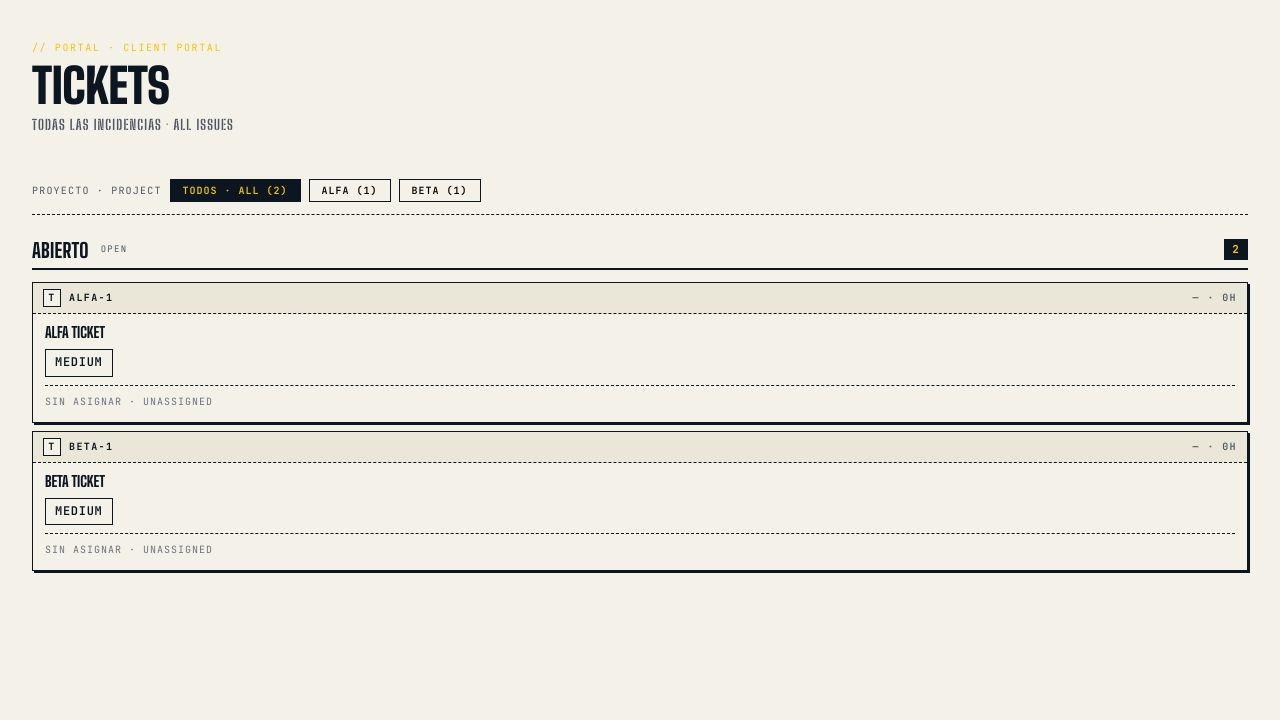
PortalTicketsPage (coverage) › toggles the project filter off when the active pill is clicked again
The width and height of the screenshot is (1280, 720).
Check: the text "Alfa ticket" is shown, box [45,323,105,341]
# First click activates the BETA filter (toggle-ON arm: `: key`).
Click the button "BETA (1)" at (440, 191), box [399,179,481,202]
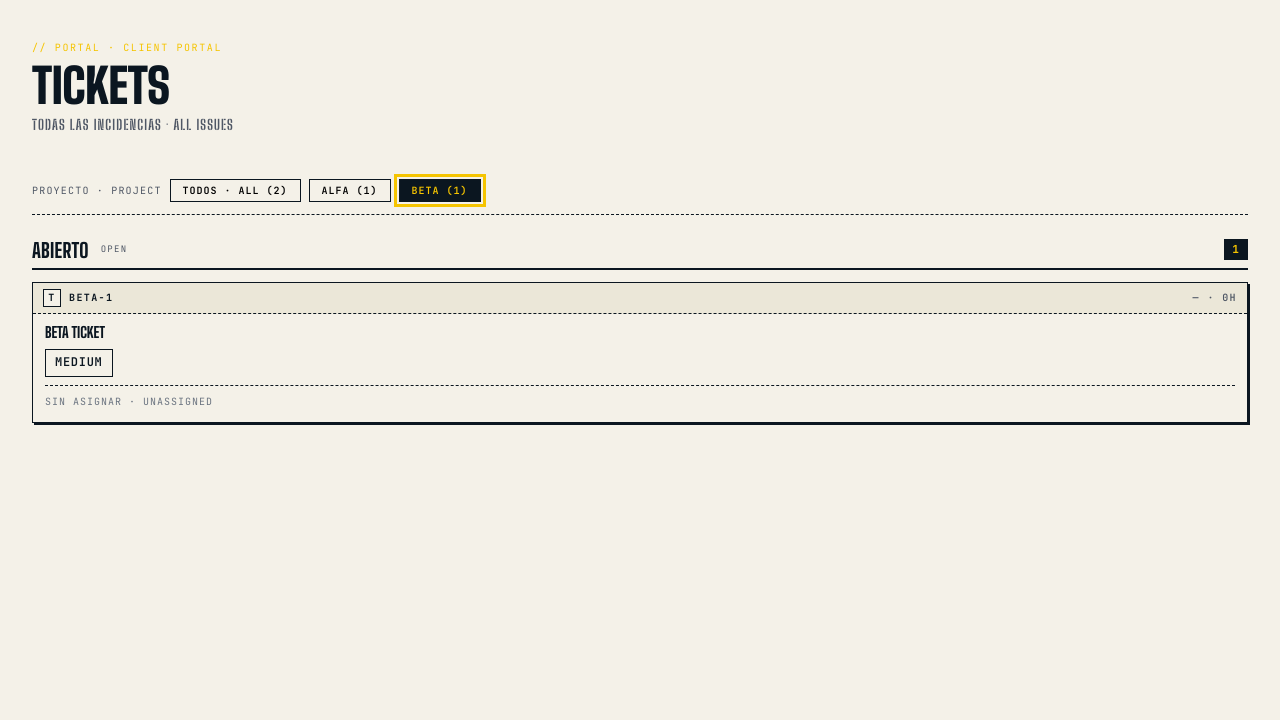
Check: the text "Beta ticket" is shown, box [45,323,105,341]
Check: the text "Alfa ticket" is gone
Click the button "BETA (1)" at (440, 191), box [399,179,481,202]
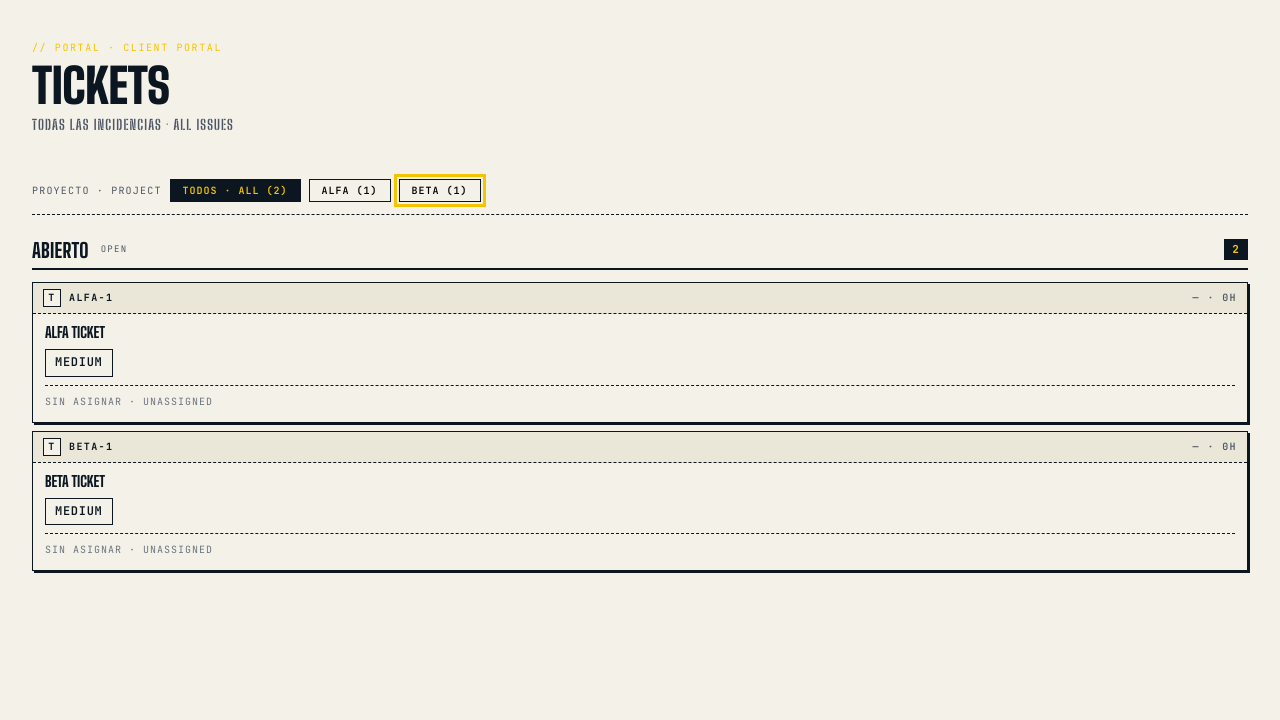
Check: the text "Beta ticket" is shown, box [45,472,105,490]
Check: the text "Alfa ticket" is shown, box [45,323,105,341]
